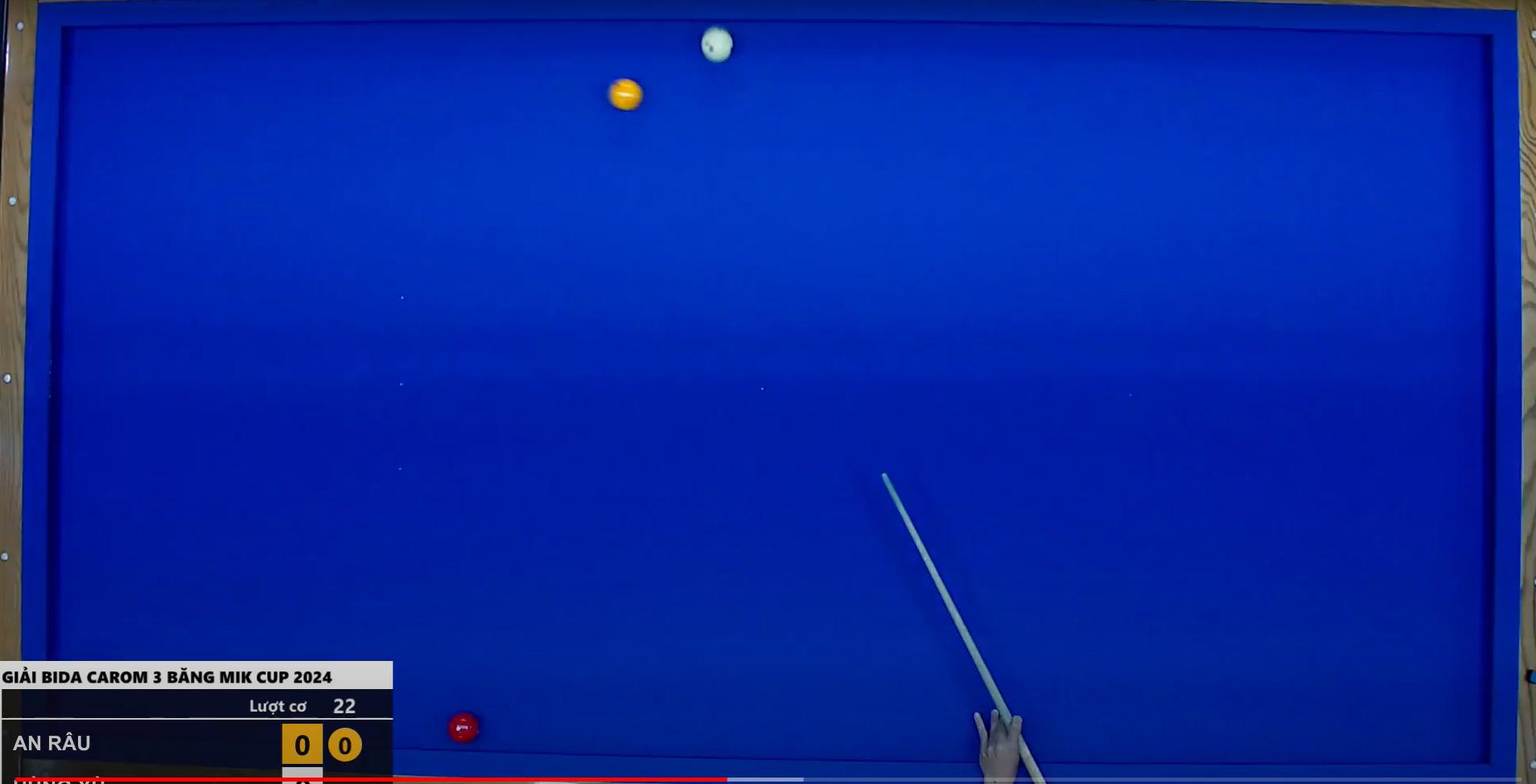red ball: (440, 703, 484, 751)
white ball: (694, 18, 737, 69)
yellow ball: (606, 74, 649, 117)
